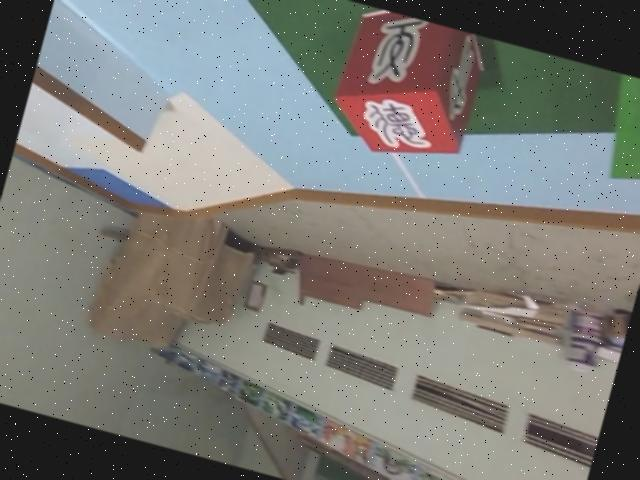R2 Fake: (323, 2, 494, 174)
